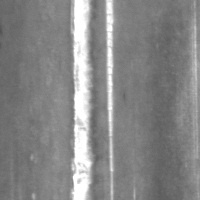scratches: (68, 1, 96, 200), (104, 1, 116, 200)
